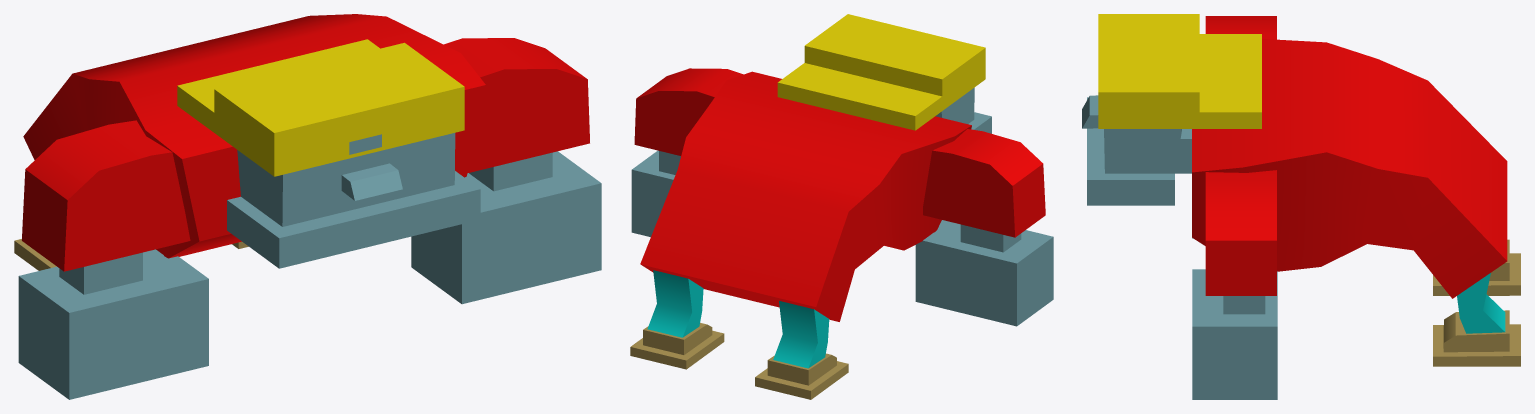
File: CharV3.fbx
3 views of the same model, side by side, from view 1: azimuth 30°, elevation 25°; view 2: azimuth 150°, elevation 25°; view 3: azimuth 270°, elevation 25° (orthographic). The views are drawn at different scales.
Parts seen in each view (by area): view 1: polySurface24; view 2: polySurface24; view 3: polySurface24.
Part boxes in pixels (x1=…): polySurface24: x1=14, y1=14, x2=601, y2=399; polySurface24: x1=630, y1=14, x2=1053, y2=399; polySurface24: x1=1082, y1=14, x2=1520, y2=399.
Size of the model in its own units: 32.72 by 17.69 by 27.71.
